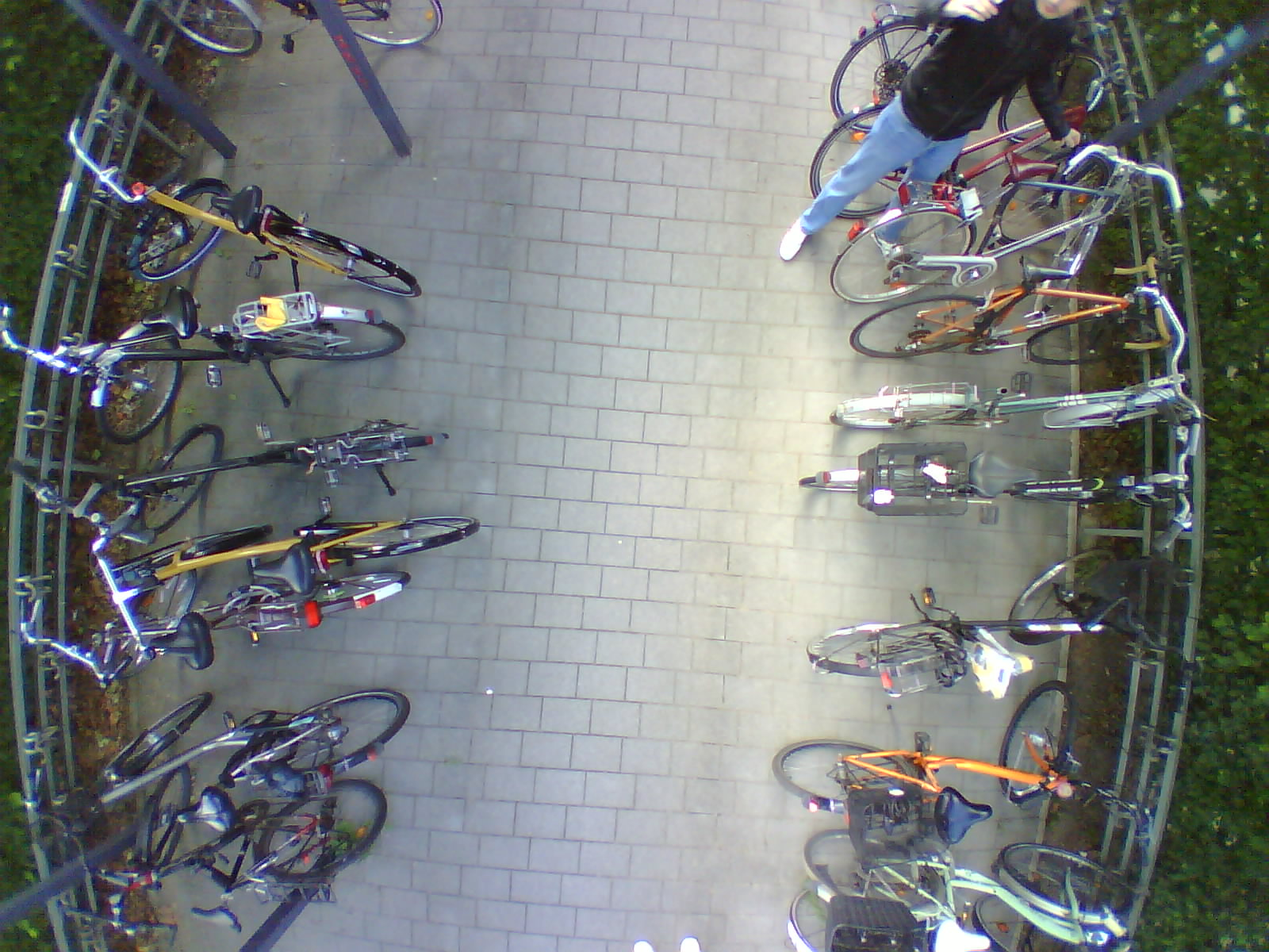bicylce: (766, 679, 1115, 851), (803, 538, 1164, 703), (92, 293, 404, 444), (101, 779, 387, 943), (71, 690, 391, 835), (782, 827, 1134, 952), (114, 164, 427, 301), (836, 161, 1152, 296), (41, 578, 411, 690), (798, 434, 1198, 531), (89, 426, 446, 530), (844, 257, 1172, 370), (823, 356, 1202, 445), (80, 521, 492, 596), (808, 116, 1108, 215)
saddle: (962, 439, 1035, 508), (964, 638, 1037, 703), (931, 781, 998, 849), (141, 615, 217, 668), (247, 552, 321, 601), (1011, 247, 1078, 301), (923, 906, 998, 952), (208, 177, 269, 233), (136, 288, 201, 339), (178, 788, 235, 834), (1000, 148, 1068, 185), (188, 898, 242, 943)
